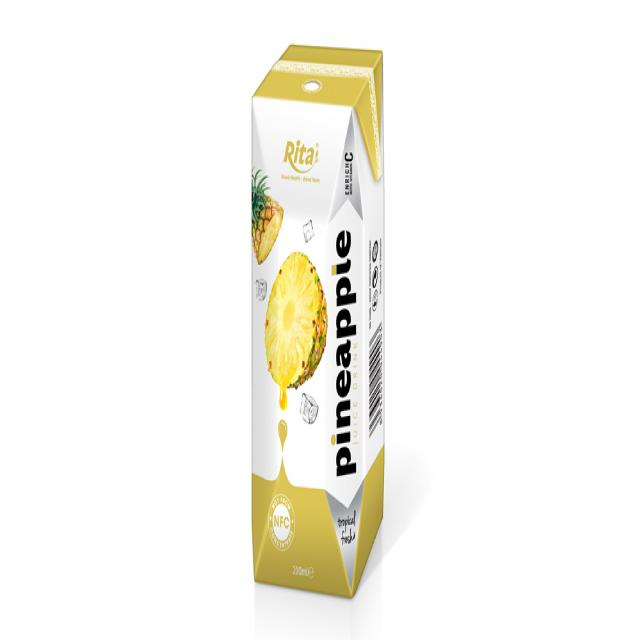non_white_jug: (233, 23, 393, 600)
